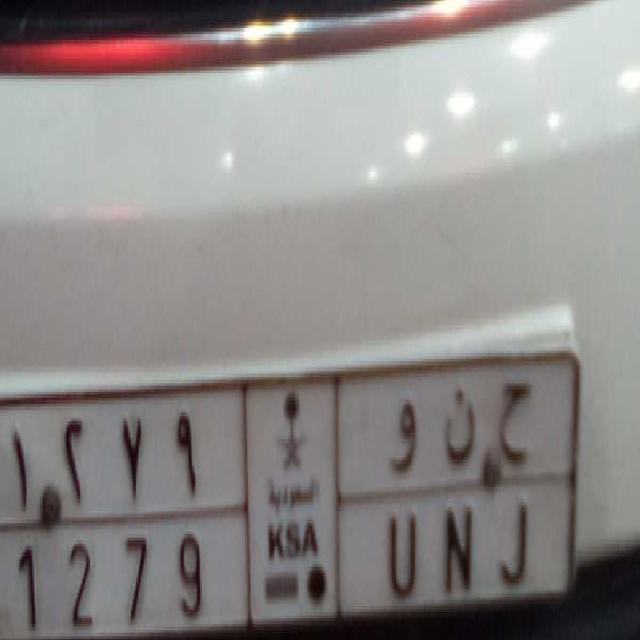license_plate: (2, 497, 549, 640)
